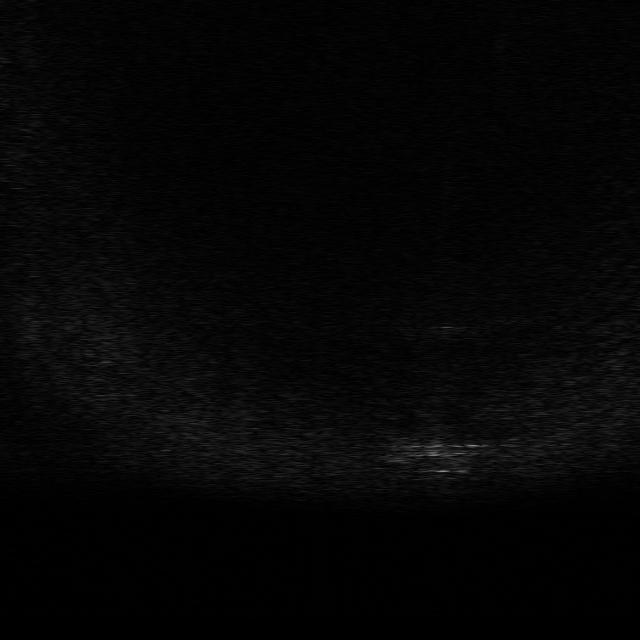plane: (386, 442, 506, 474)
